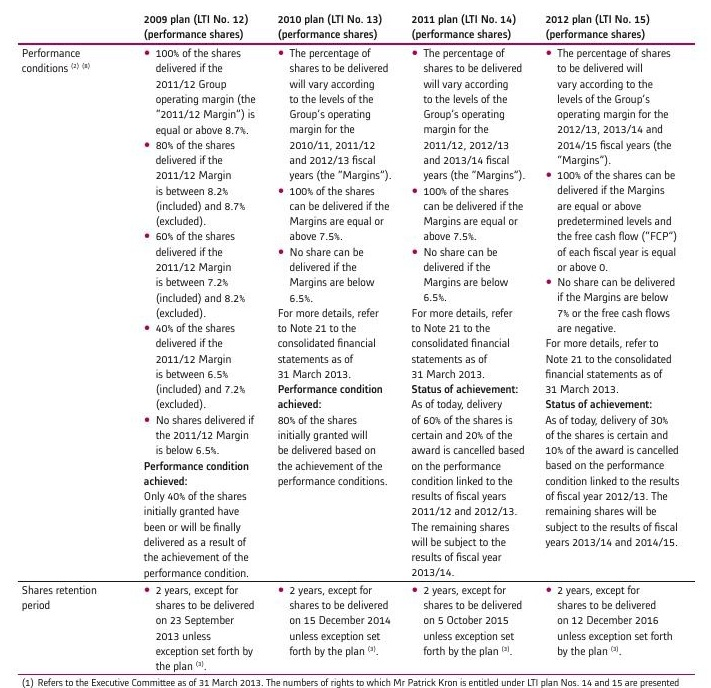table: (0, 0, 711, 688)
